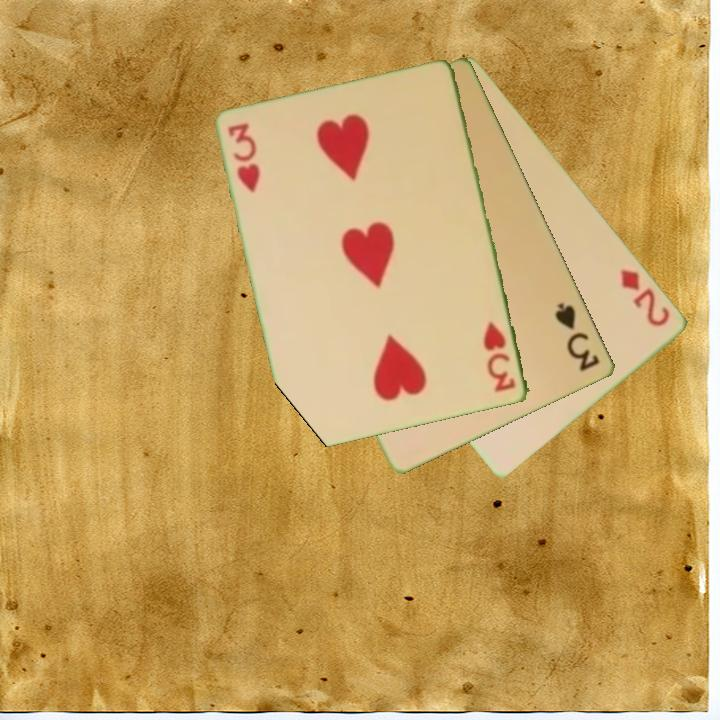2d: (617, 265, 674, 330)
3h: (224, 119, 264, 196), (480, 318, 519, 396)
3s: (552, 299, 603, 375)
